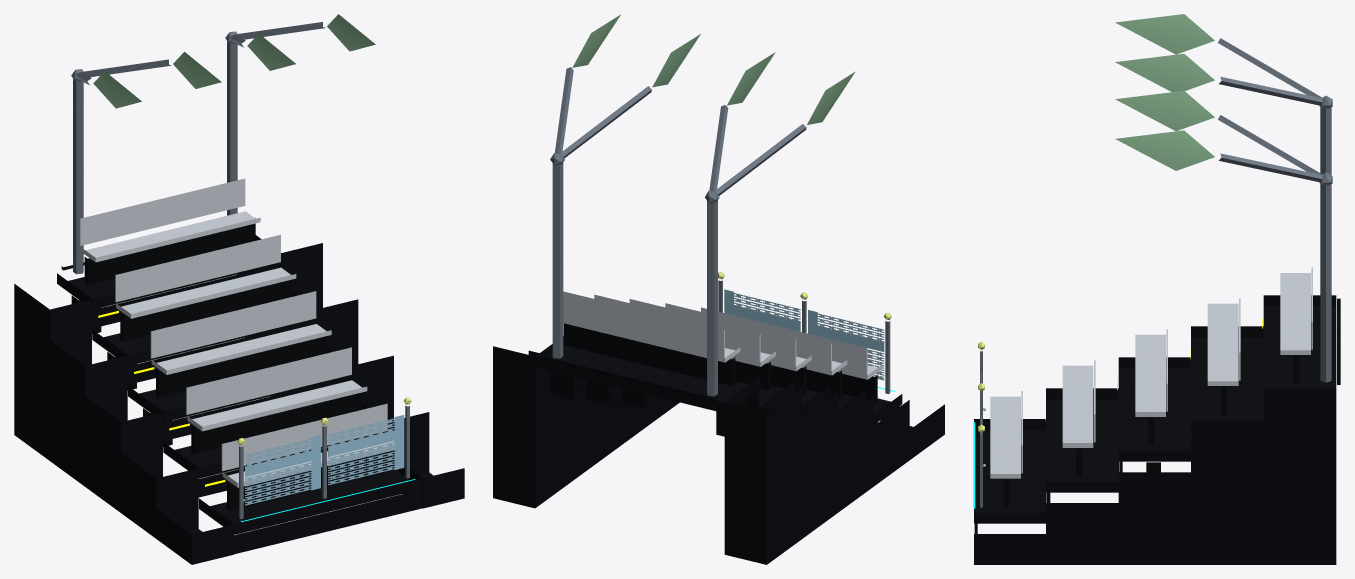
The model's file is tt_stand_module_3p8.glb.
The picture shows the model from 3 angles, left to right: view 1: azimuth 30°, elevation 25°; view 2: azimuth 150°, elevation 25°; view 3: azimuth 270°, elevation 25°; orthographic projection. The views are drawn at different scales.
Parts seen in each view (by area): view 1: Aisle_Solid, Seat_Backs, Seat_Beams, Seat_Pans, Tier_Slabs, Risers, Guard_Scissor, Canopy_Steel, Canopy_Leaves, Rail_Posts; view 2: Aisle_Solid, Seat_Backs, Canopy_Steel, Tier_Slabs, Seat_Beams, Guard_Scissor, Canopy_Leaves, Beams, Seat_Pans, Rail_Posts; view 3: Aisle_Solid, Tier_Slabs, Seat_Pans, Canopy_Leaves, Canopy_Steel, Seat_Beams, Beams, Seat_Backs.
Boxes of the visible parts, x1,y1,x2,y2 form: Aisle_Solid: [14, 235, 464, 564]; Seat_Backs: [79, 178, 387, 471]; Seat_Beams: [84, 218, 396, 510]; Seat_Pans: [80, 211, 394, 487]; Tier_Slabs: [57, 262, 421, 534]; Risers: [92, 264, 421, 554]; Guard_Scissor: [245, 415, 404, 505]; Canopy_Steel: [71, 22, 325, 274]; Canopy_Leaves: [93, 14, 375, 108]; Rail_Posts: [239, 405, 409, 519]; Aisle_Solid: [493, 336, 944, 564]; Seat_Backs: [563, 291, 867, 375]; Canopy_Steel: [550, 67, 806, 396]; Tier_Slabs: [535, 345, 902, 422]; Seat_Beams: [563, 323, 877, 403]; Guard_Scissor: [724, 289, 884, 380]; Canopy_Leaves: [572, 14, 855, 124]; Beams: [540, 356, 809, 436]; Seat_Pans: [563, 319, 882, 379]; Rail_Posts: [718, 280, 890, 393]; Aisle_Solid: [974, 295, 1336, 564]; Tier_Slabs: [974, 306, 1336, 523]; Seat_Pans: [990, 273, 1310, 478]; Canopy_Leaves: [1115, 14, 1214, 170]; Canopy_Steel: [1218, 38, 1332, 382]; Seat_Beams: [1003, 355, 1299, 507]; Beams: [1146, 298, 1340, 472]; Seat_Backs: [1021, 267, 1312, 473].
Size of what is drawn, in the model's own units: 3.77 by 5.47 by 4.31.
10 materials, 5 textured.
